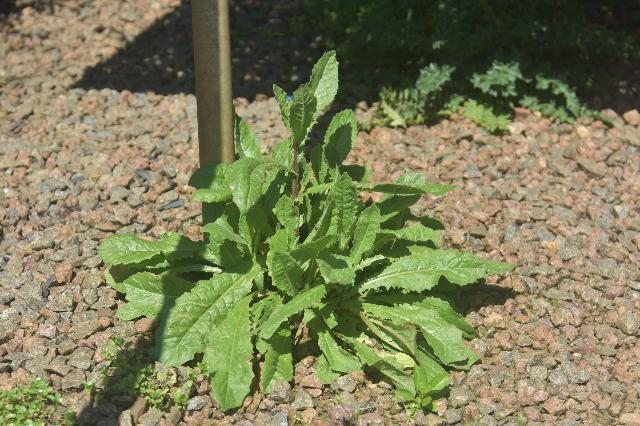MalezaMontesDelPlata: (305, 165, 517, 412), (229, 44, 364, 278), (90, 218, 301, 364), (382, 3, 601, 135), (90, 339, 208, 403), (0, 370, 77, 426)
